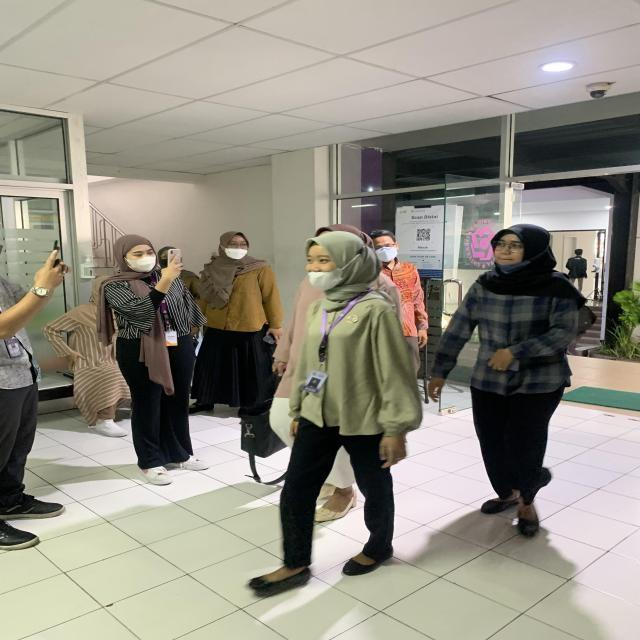hairnet: (300, 264, 346, 290), (491, 248, 525, 282)
